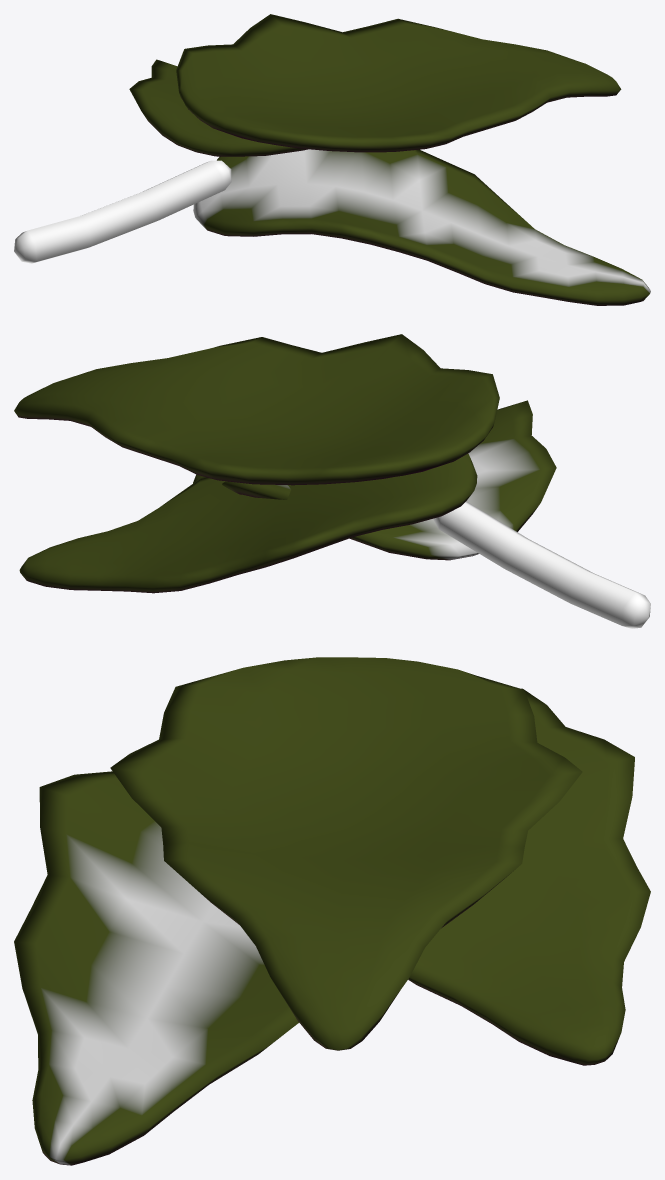
File: RAW_perilla.fbx
3 renders of one model, top to bottom at view 1: azimuth 30°, elevation 25°; view 2: azimuth 150°, elevation 25°; view 3: azimuth 270°, elevation 25°, orthographic. The views are drawn at different scales.
Visible parts, largest first — view 1: RAW_perilla; view 2: RAW_perilla; view 3: RAW_perilla.
Boxes of the visible parts, box(x1,y1,x2,y2) form: RAW_perilla: box(14, 14, 650, 305); RAW_perilla: box(14, 334, 650, 628); RAW_perilla: box(14, 657, 650, 1165).
Bounding box in the file's own units: 0.094 × 0.0306 × 0.0633.
